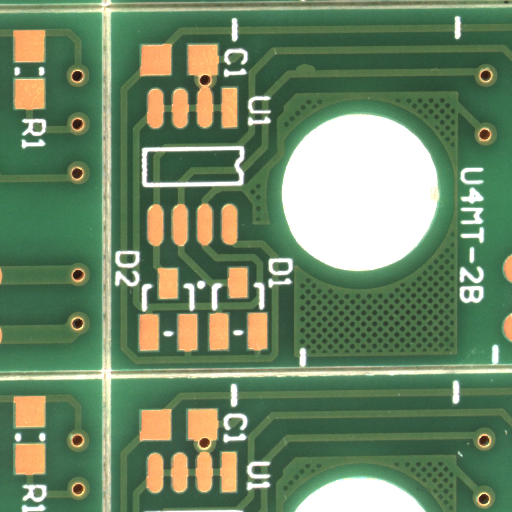Spur: (305, 67, 323, 75)
